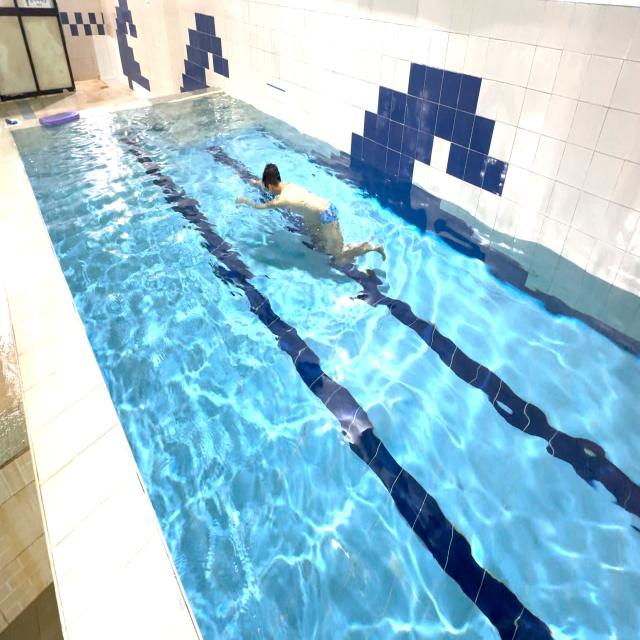Swimming: (232, 140, 391, 286)
